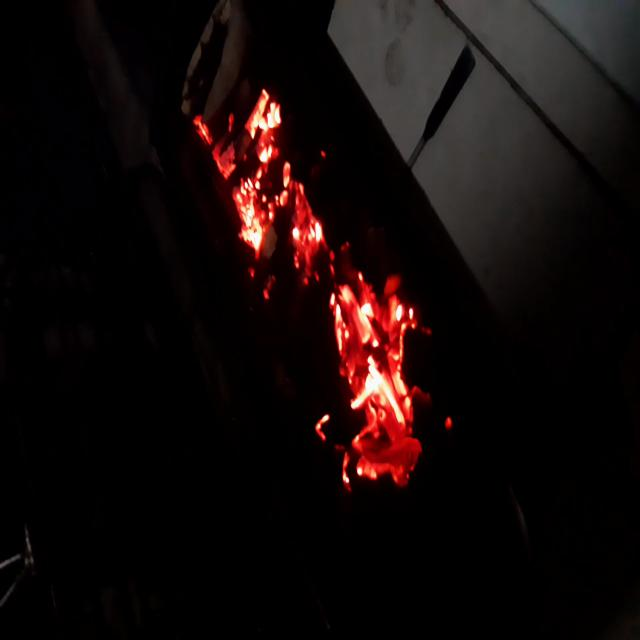Fire: (186, 99, 450, 526)
